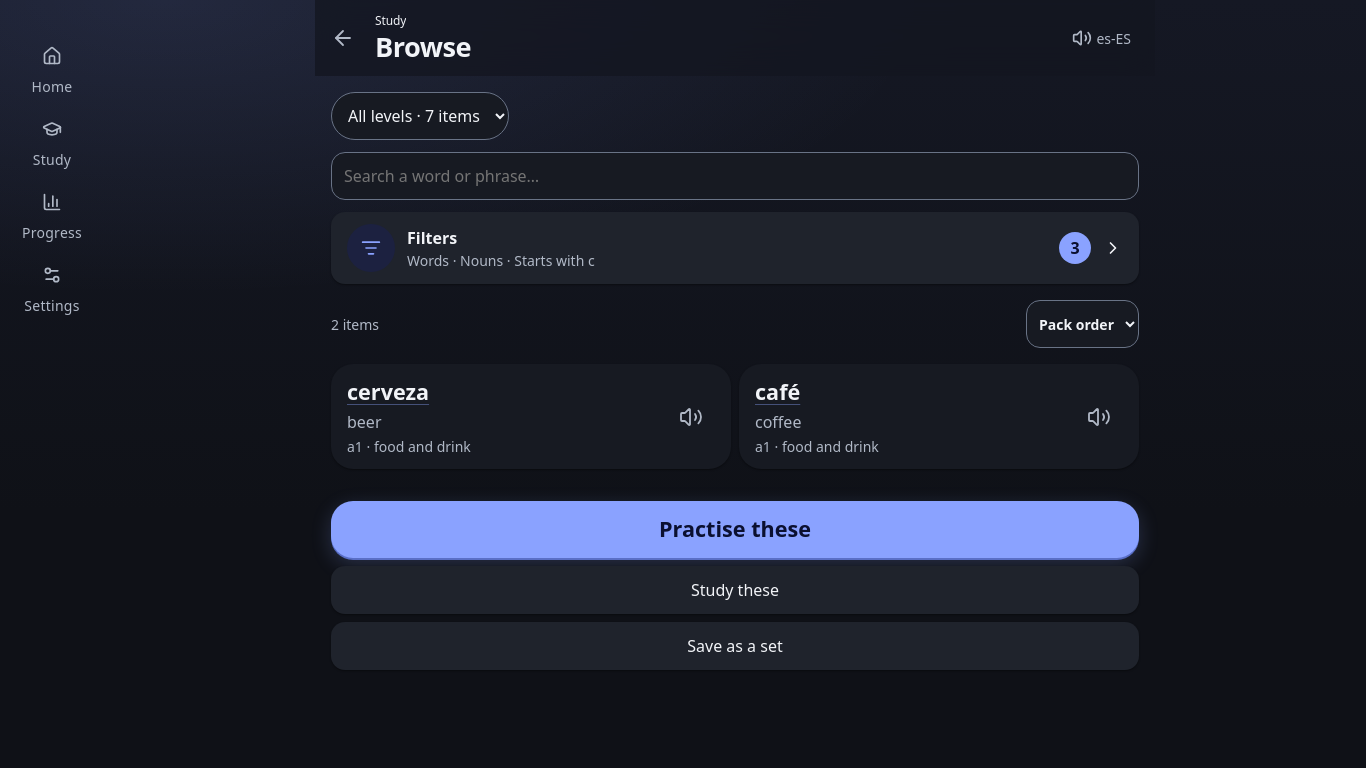
a sheet the URL describes › can clear a long active filter set from the top or the bottom
The image size is (1366, 768).
Click the button with aria-label "Filters:": click(371, 248) 331,212 -> 1139,284
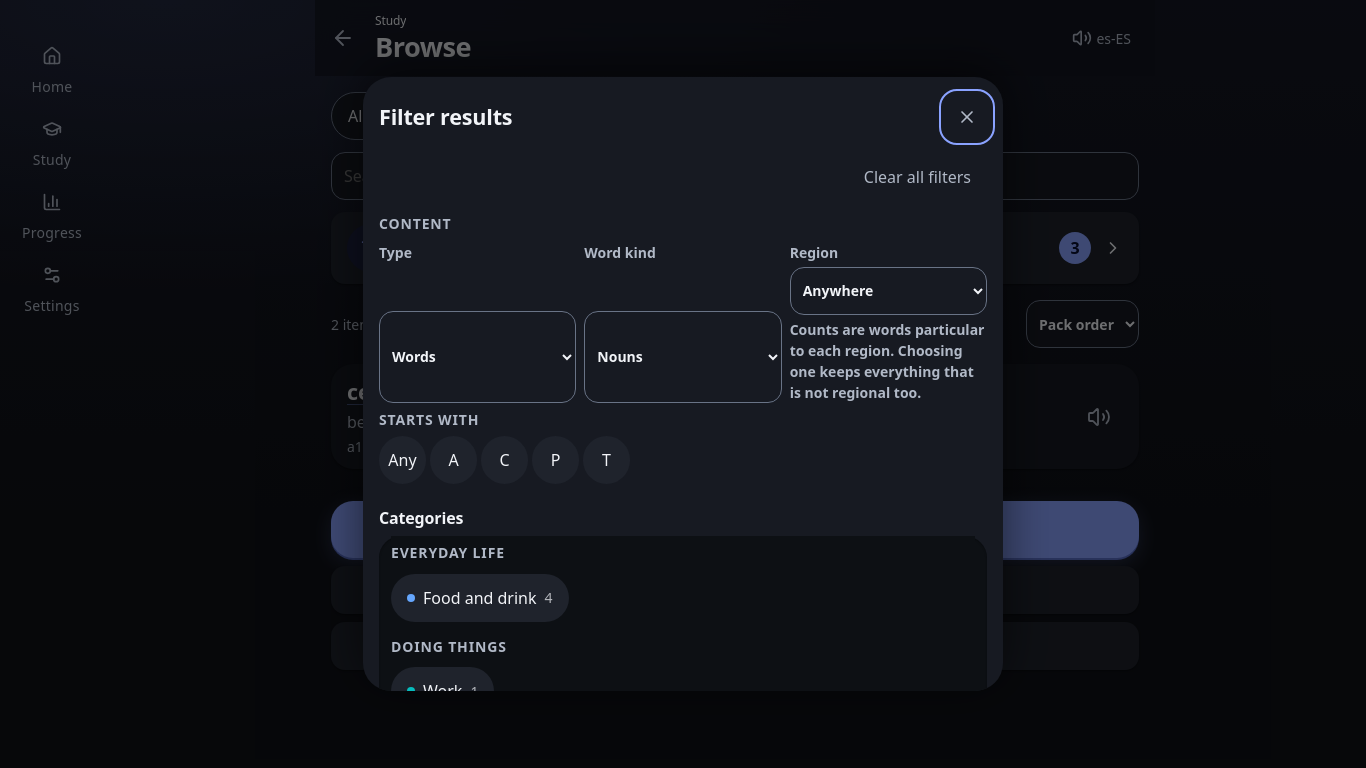
Check: the button "Clear all filters" is shown
Click the button "Clear all filters": click(917, 177) 848,153 -> 987,201
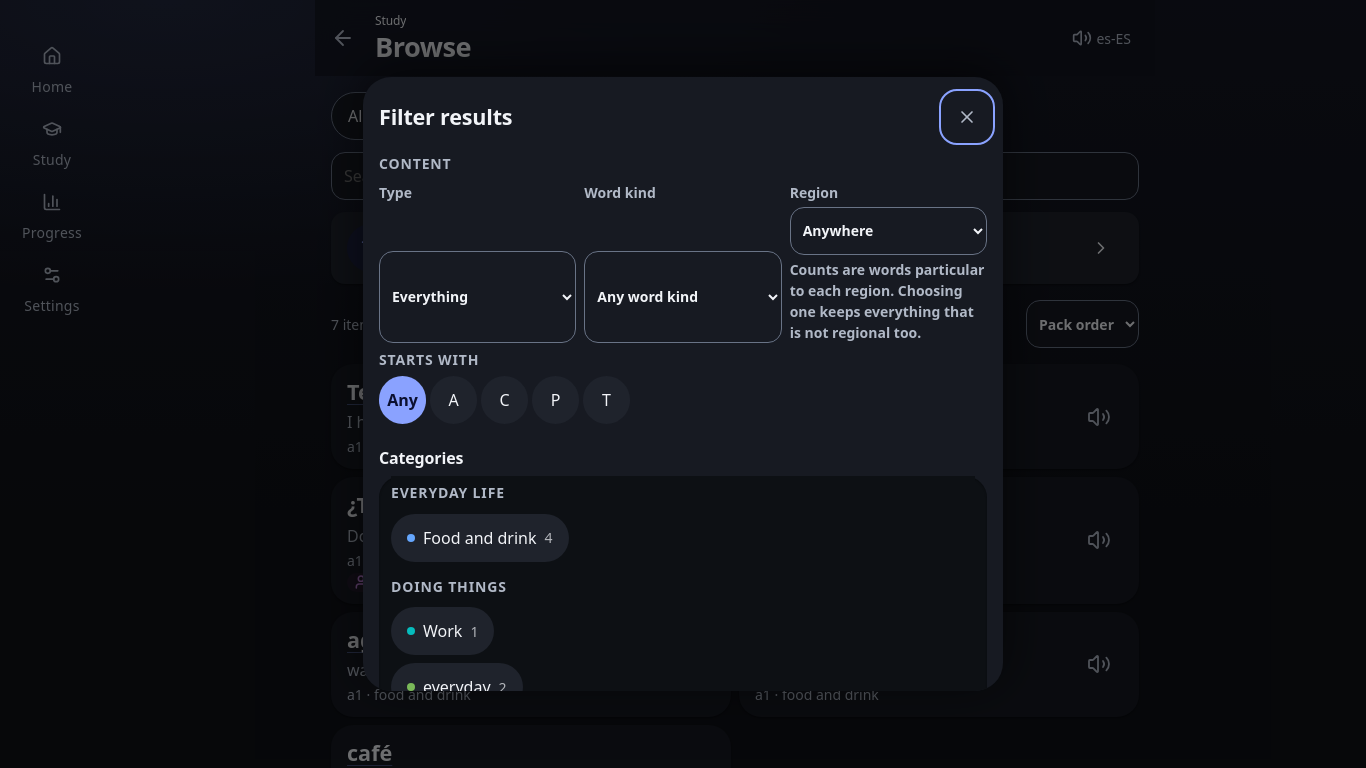
Check: the button "Clear all filters" is gone
